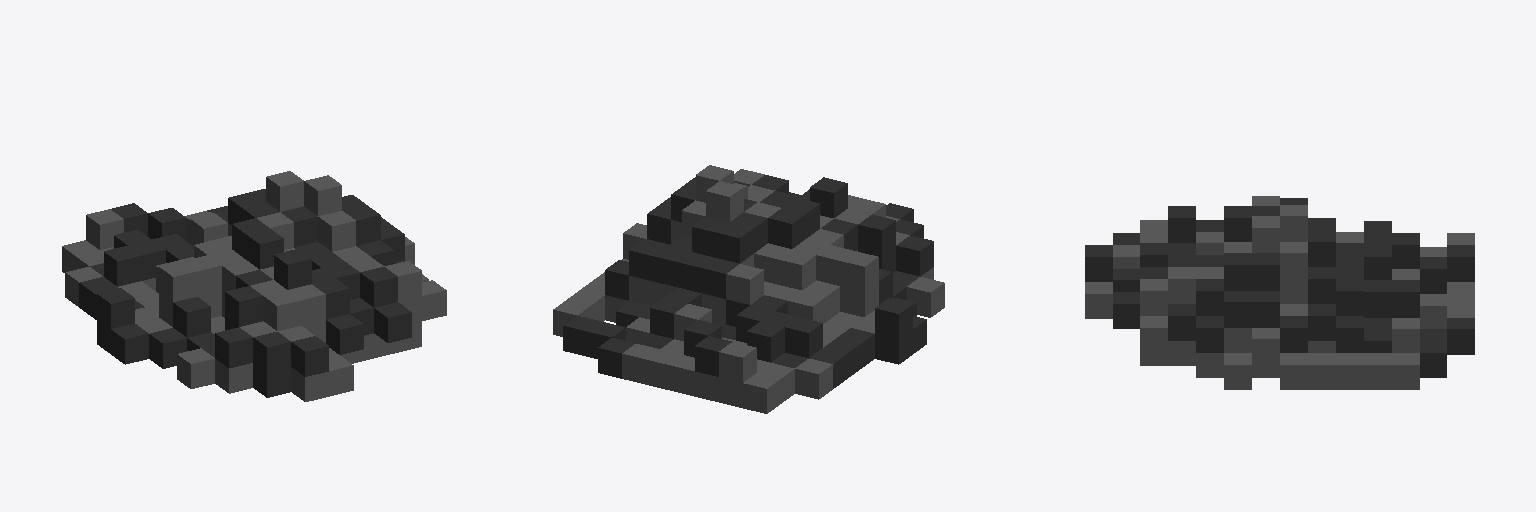
The picture shows the model from 3 angles: view 1: azimuth 30°, elevation 25°; view 2: azimuth 150°, elevation 25°; view 3: azimuth 270°, elevation 25°; orthographic projection.
Parts seen in each view (by area): view 1: object 1; view 2: object 1; view 3: object 1.
Part boxes in pixels (x1,y1,x2,y2): object 1: (62,171,446,401); object 1: (553,165,944,413); object 1: (1085,196,1474,389).
Bounding box in the file's own units: 1.2 × 0.5 × 1.4.
1 materials, 1 textured.